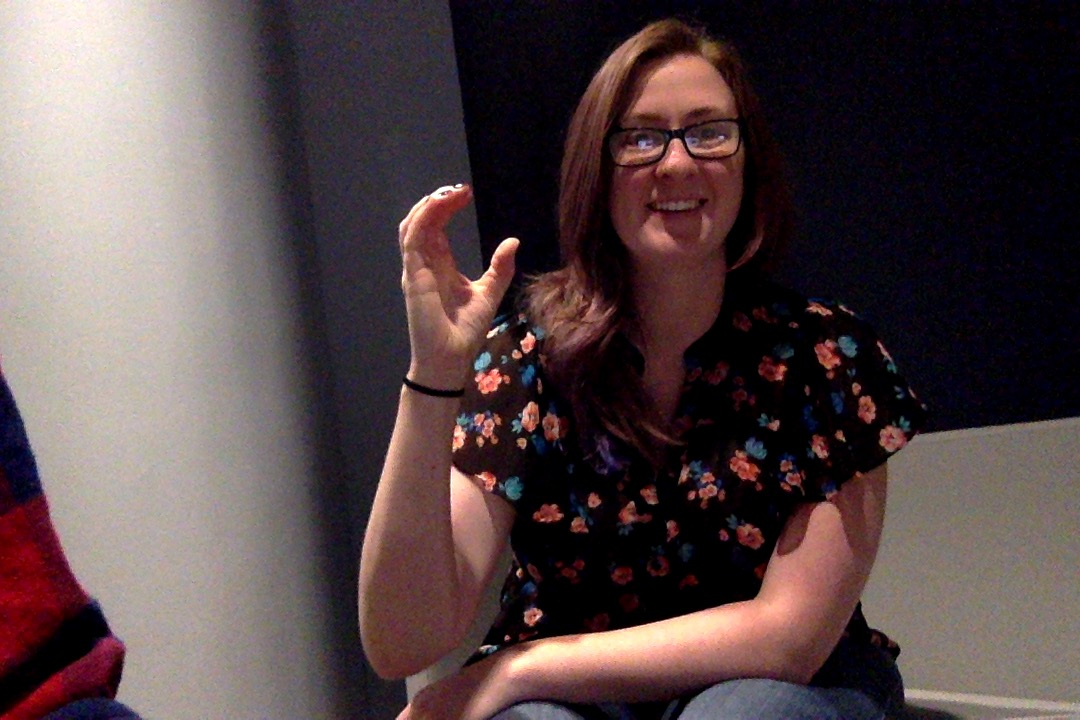c: (384, 175, 530, 357)
